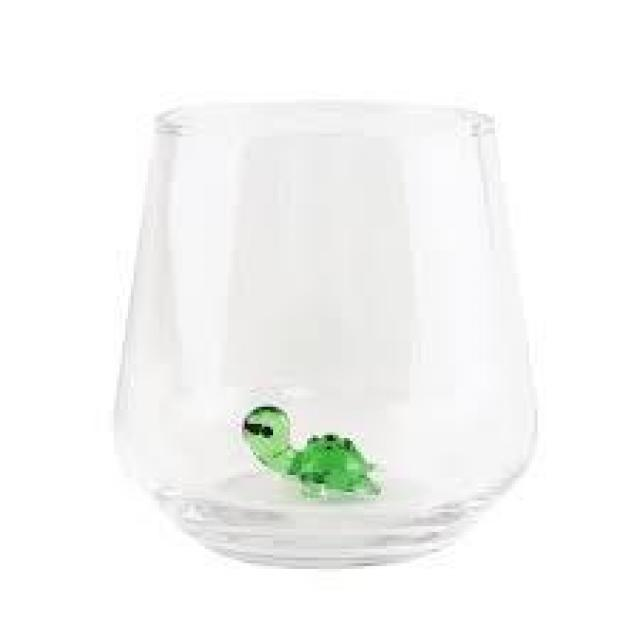non-organic waste: (102, 92, 549, 570)
